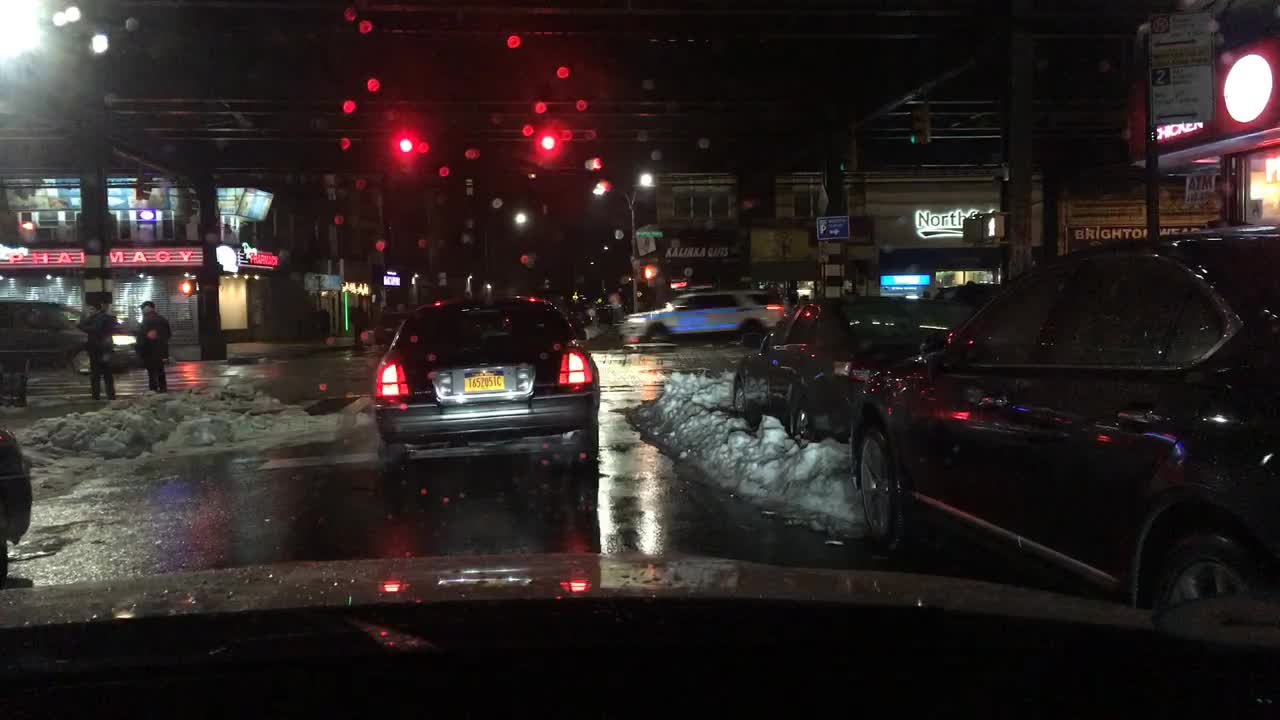car: (846, 219, 1278, 611), (370, 291, 601, 479), (733, 294, 982, 446), (0, 296, 146, 375), (614, 287, 786, 349), (0, 424, 34, 587), (550, 294, 592, 339), (930, 282, 1001, 305), (370, 307, 415, 342)
person: (73, 304, 127, 403), (134, 300, 174, 395), (347, 303, 368, 345), (315, 305, 333, 341), (785, 276, 800, 306)
traffic light: (838, 126, 856, 173), (980, 208, 1006, 239), (908, 101, 923, 147), (135, 170, 154, 201), (637, 261, 659, 286), (539, 132, 552, 164), (399, 133, 412, 164)
traffic sign: (1144, 14, 1216, 126), (815, 214, 850, 240), (634, 227, 664, 239)
